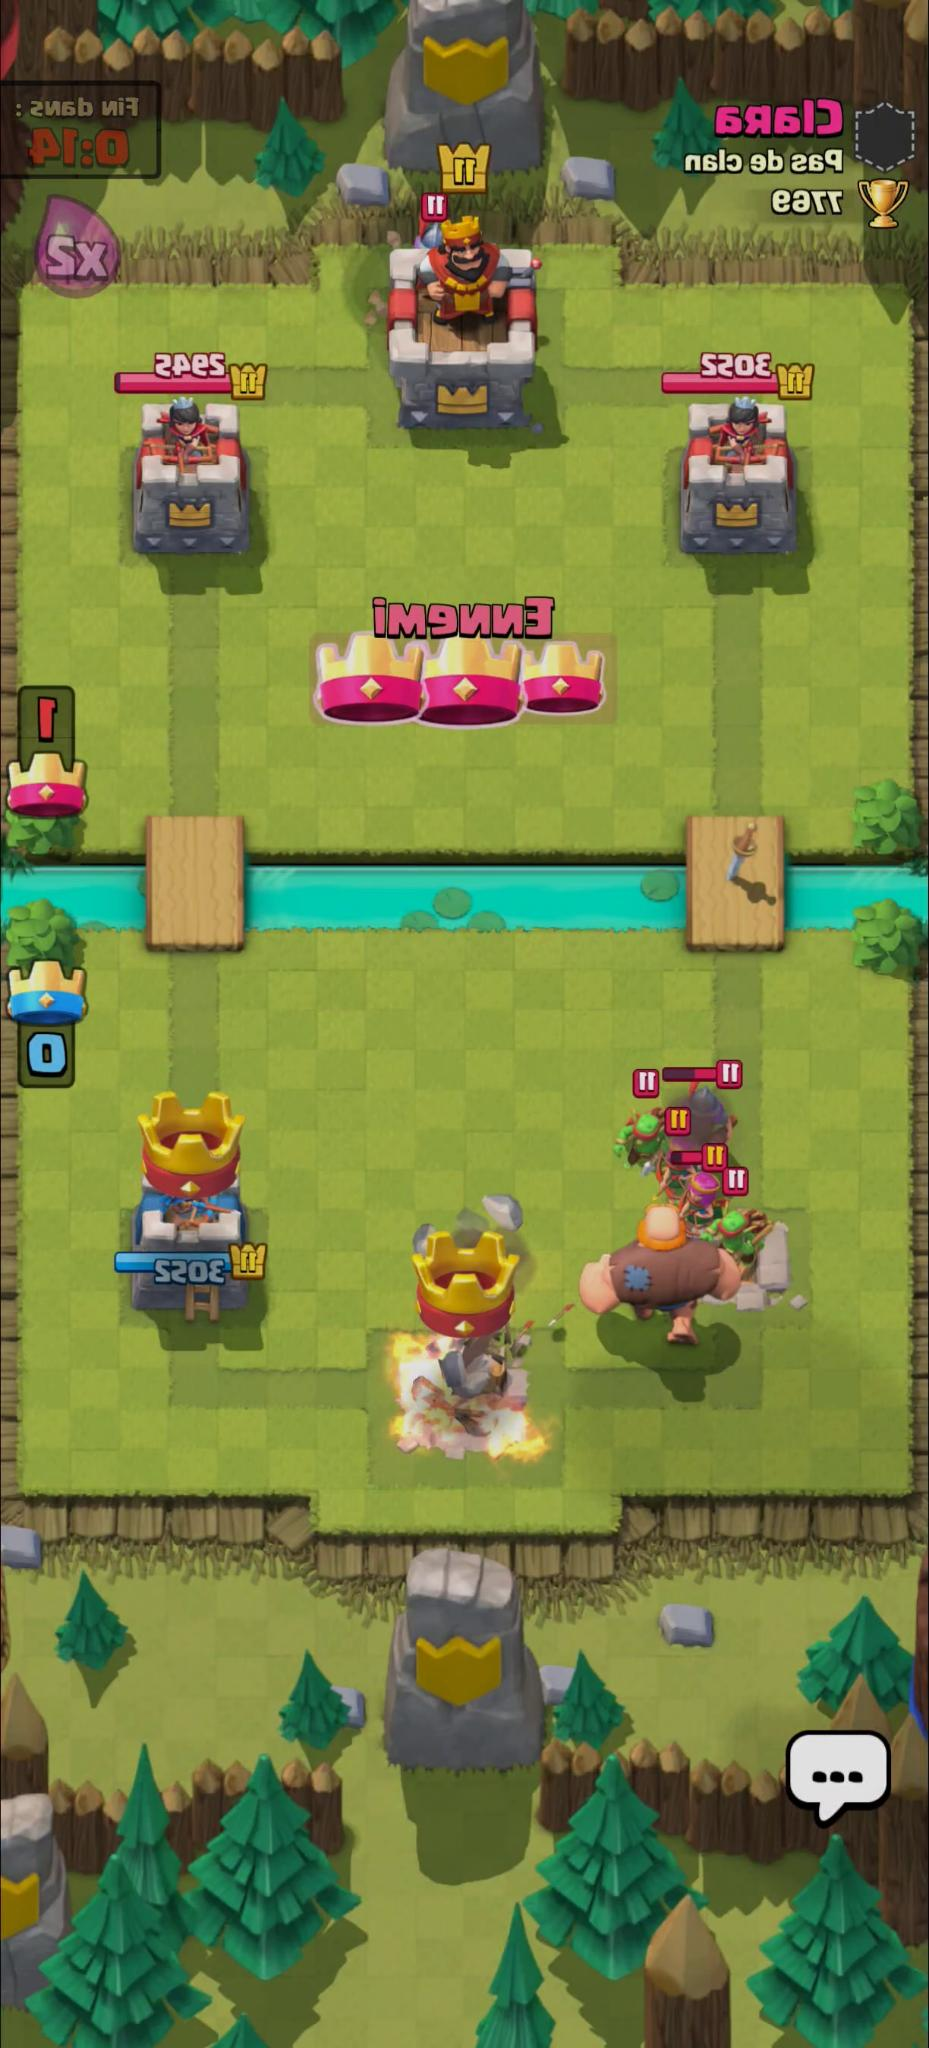archere: (670, 1174, 723, 1230), (651, 1153, 694, 1202)
geant: (579, 1208, 738, 1344)
gobelin_lances: (700, 1207, 768, 1266), (610, 1108, 669, 1176)
mousquetaire: (677, 1080, 742, 1145)
